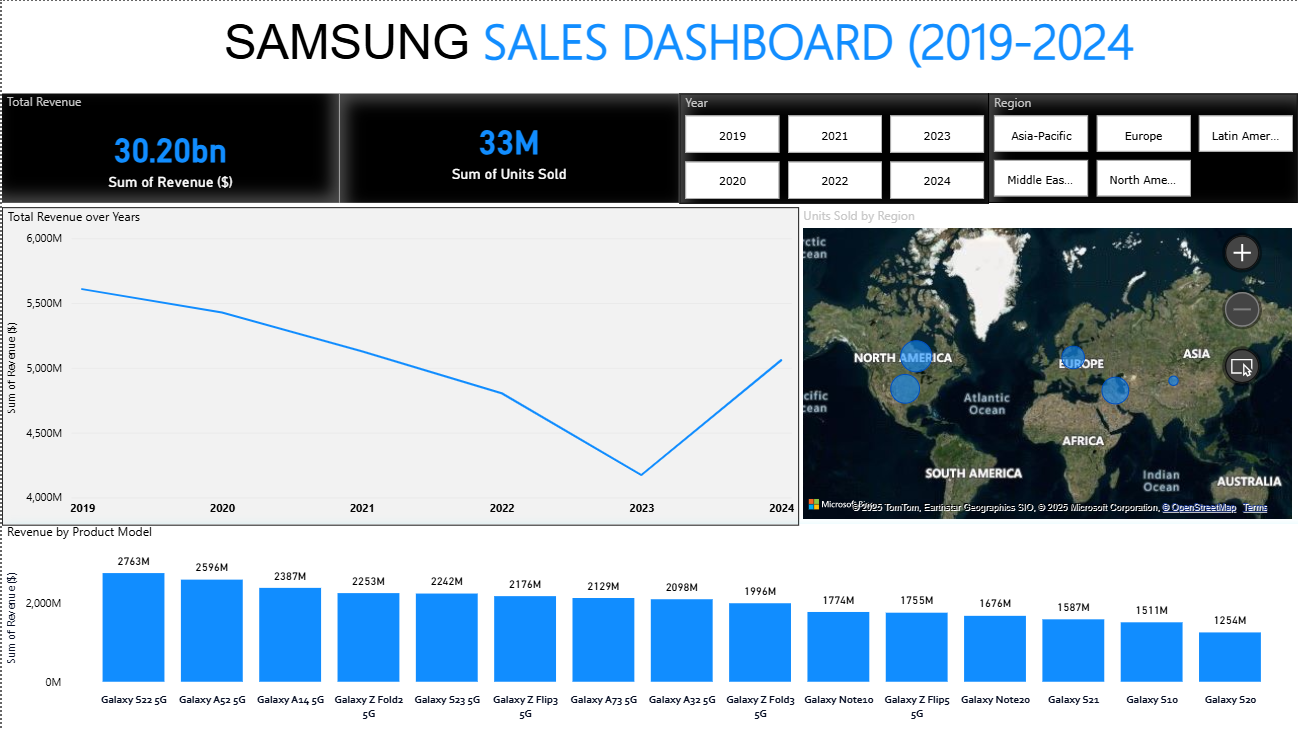

The dashboard page shown, as its layout file describes it:
{"tool":"powerbi","page":{"name":"Page 1","canvas":[1280,720],"ordinal":0},"visuals":[{"type":"textbox","box":[200,0,936.7,91.7],"z":0},{"type":"card","title":"Total Revenue","fields":{"Values":["samsung_project sales.Revenue ($)"]},"box":[0,91.6,332.9,107.8],"z":1000},{"type":"card","fields":{"Values":["samsung_project sales.Units Sold"]},"box":[332.9,91.6,335.6,107.8],"z":2000},{"type":"lineChart","title":"Total Revenue over Years","fields":{"Category":["samsung_project sales.Quarter","samsung_project sales.Year"],"Y":["samsung_project sales.Revenue ($)"]},"box":[0,203.5,787,314],"z":3000},{"type":"columnChart","title":"Revenue by Product Model","fields":{"Category":["samsung_project sales.Product Model"],"Y":["samsung_project sales.Revenue ($)"]},"box":[0,516.2,1280.3,203.5],"z":4000},{"type":"map","title":"Units Sold by Region","fields":{"Category":["samsung_project sales.Region"],"Size":["samsung_project sales.Units Sold"]},"box":[787,203.5,493.2,312.7],"z":5000},{"type":"advancedSlicerVisual","fields":{"Values":["samsung_project sales.Year"]},"box":[668.6,91.4,305.7,108.6],"z":6000},{"type":"advancedSlicerVisual","fields":{"Values":["samsung_project sales.Region"]},"box":[974.4,91.6,305.9,107.8],"z":7000}]}

Visuals, with their boxes in screenshot pixels (x1, y1, x2, y2), scaled from the page's 1280x720 canvas onto the 1298x729 screenshot:
textbox: <region>203, 0, 1153, 93</region>
"Total Revenue" card: <region>0, 93, 338, 202</region>
card - samsung_project sales.Units Sold: <region>338, 93, 678, 202</region>
"Total Revenue over Years" lineChart: <region>0, 206, 798, 524</region>
"Revenue by Product Model" columnChart: <region>0, 523, 1297, 728</region>
"Units Sold by Region" map: <region>798, 206, 1297, 523</region>
advancedSlicerVisual - samsung_project sales.Year: <region>678, 93, 988, 202</region>
advancedSlicerVisual - samsung_project sales.Region: <region>988, 93, 1297, 202</region>
